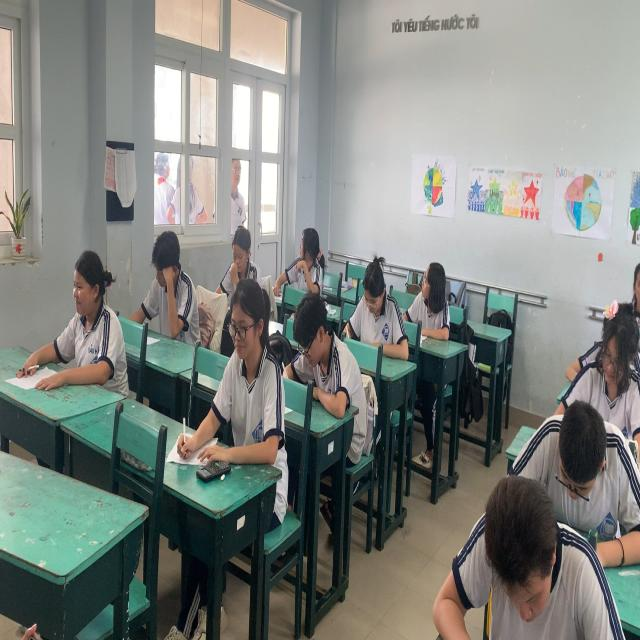cheating: (344, 255, 405, 358), (292, 286, 348, 396), (405, 258, 452, 344), (285, 224, 331, 296)
not_cheating: (454, 487, 572, 635), (208, 262, 287, 455), (532, 407, 612, 534), (140, 218, 210, 358), (59, 248, 121, 389), (592, 307, 638, 400), (221, 220, 261, 292)
